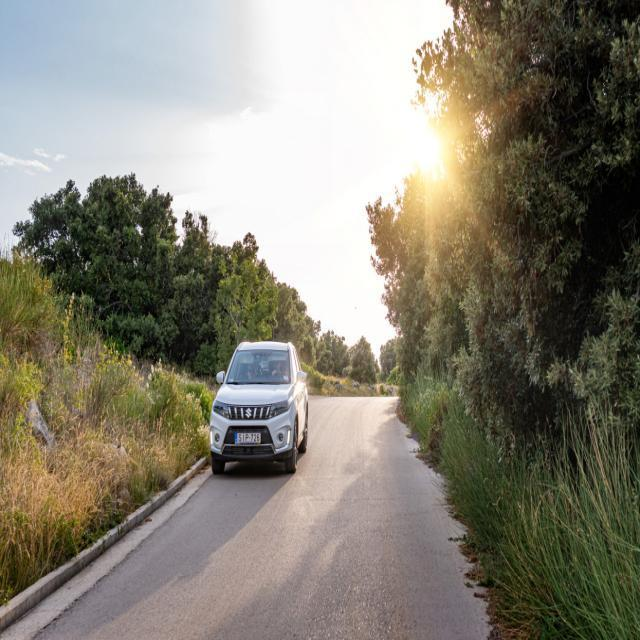licence: (234, 429, 262, 447)
